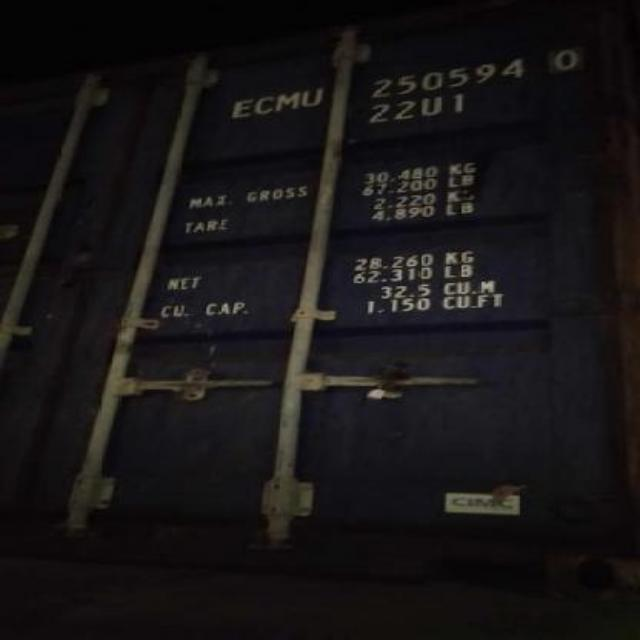0: (548, 49, 582, 75), (424, 70, 444, 92)
2: (354, 75, 392, 98)
4: (500, 53, 530, 89)
5: (390, 73, 422, 99), (442, 64, 474, 90)
9: (470, 60, 500, 92)
C: (254, 90, 274, 122)
E: (222, 86, 252, 128)
M: (270, 88, 302, 120)
U: (300, 84, 326, 114)
